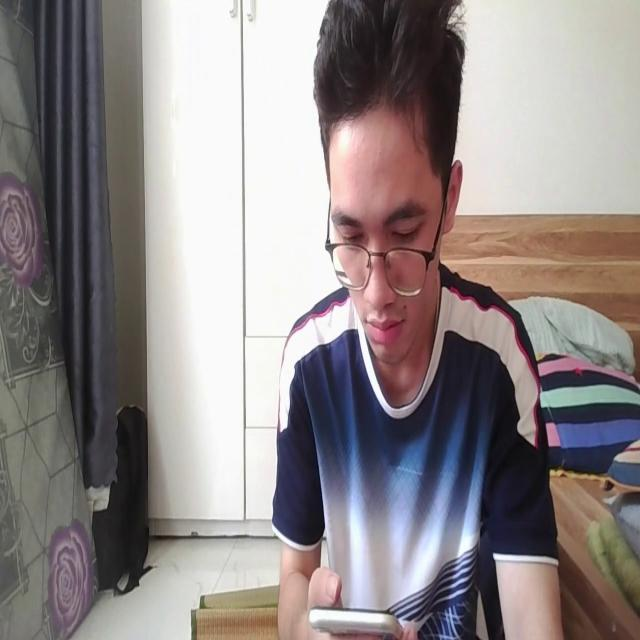phone: (306, 599, 404, 640)
student: (271, 2, 565, 640)
